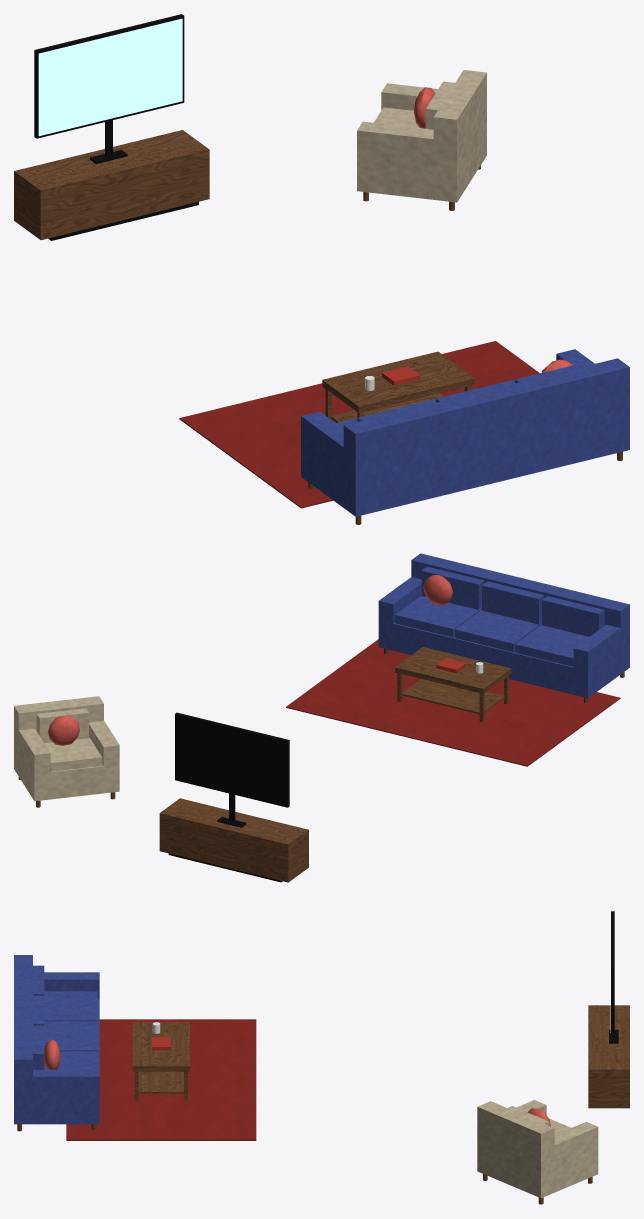
File: i_jp_tea_room.gltf
3 renders of one model, top to bottom at view 1: azimuth 30°, elevation 25°; view 2: azimuth 150°, elevation 25°; view 3: azimuth 270°, elevation 25°, orthographic. The views are drawn at different scales.
Parts seen in each view (by area): view 1: I_jp_tea_room; view 2: I_jp_tea_room; view 3: I_jp_tea_room.
Boxes of the visible parts, x1,y1,x2,y2 form: I_jp_tea_room: (14,14,629,524); I_jp_tea_room: (14,553,629,882); I_jp_tea_room: (14,911,629,1204).
Size of the model in its own units: 4.65 by 1.64 by 6.48.
9 materials, 5 textured.
